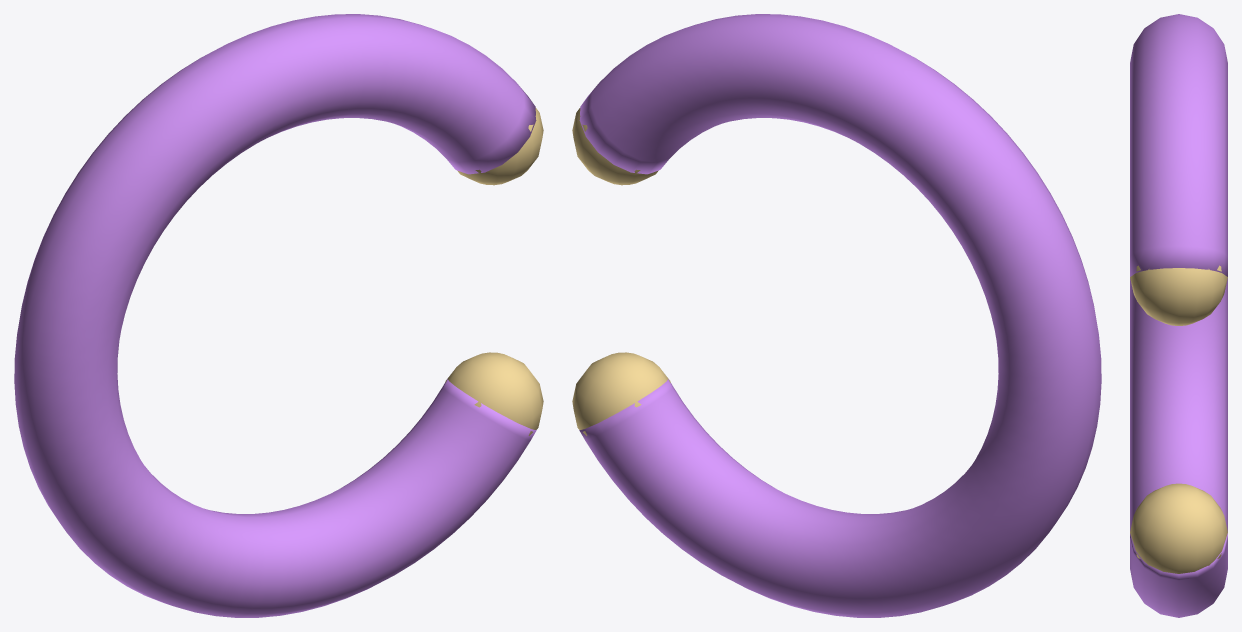
File: small-arc-CIAJnzC7.glb
3 views of the same model, side by side, from view 1: azimuth 30°, elevation 25°; view 2: azimuth 150°, elevation 25°; view 3: azimuth 270°, elevation 25° (orthographic). The views are drawn at different scales.
Parts seen in each view (by area): view 1: R3D_small-arc_Body_0, R3D_small-arc_Tip_1, R3D_small-arc_Tip_0; view 2: R3D_small-arc_Body_0, R3D_small-arc_Tip_1, R3D_small-arc_Tip_0; view 3: R3D_small-arc_Body_0, R3D_small-arc_Tip_1, R3D_small-arc_Tip_0.
Part boxes in pixels (x1,y1,x2,y2): R3D_small-arc_Body_0: (14,14,536,617); R3D_small-arc_Tip_1: (445,352,543,435); R3D_small-arc_Tip_0: (457,108,543,185); R3D_small-arc_Body_0: (579,14,1101,617); R3D_small-arc_Tip_1: (572,352,670,435); R3D_small-arc_Tip_0: (572,108,658,185); R3D_small-arc_Body_0: (1130,14,1227,617); R3D_small-arc_Tip_1: (1130,483,1227,573); R3D_small-arc_Tip_0: (1130,265,1227,325).
Size of the model in its own units: 1.38 by 1.48 by 0.24.
